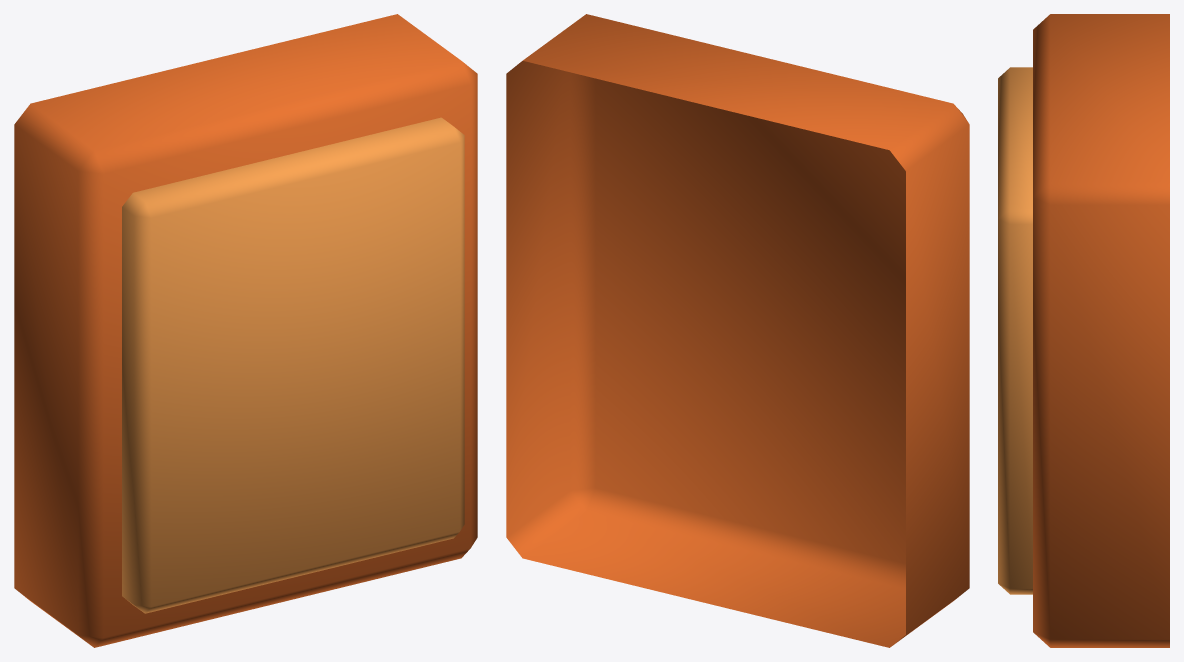
The model's file is ElectricBox_2_E_1.fbx.
3 views of the same model, side by side, from view 1: azimuth 30°, elevation 25°; view 2: azimuth 150°, elevation 25°; view 3: azimuth 270°, elevation 25° (orthographic). The views are drawn at different scales.
Parts seen in each view (by area): view 1: ElectricBox_2_E_1; view 2: ElectricBox_2_E_1; view 3: ElectricBox_2_E_1.
Boxes of the visible parts, x1,y1,x2,y2 form: ElectricBox_2_E_1: [14, 14, 477, 647]; ElectricBox_2_E_1: [506, 14, 969, 647]; ElectricBox_2_E_1: [998, 14, 1169, 647].
Size of the model in its own units: 38.15 by 45.42 by 15.17.
